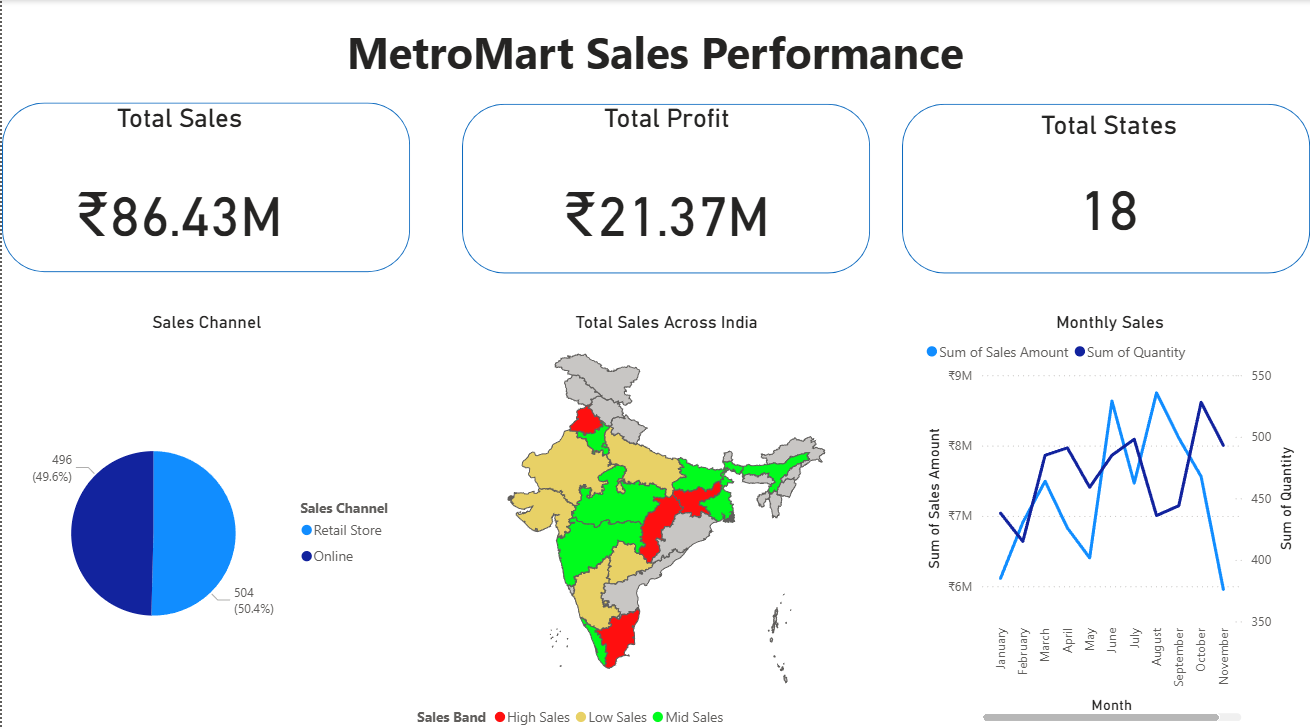

The dashboard page shown, as its layout file describes it:
{"tool":"powerbi","page":{"name":"Page 1","canvas":[1280,720],"ordinal":0},"visuals":[{"type":"shapeMap","title":"Total Sales Across India","fields":{"Value":["Sum(Sheet1.Sales Amount)"],"Category":["StateSalesSummary.State"],"Series":["StateSalesSummary.Sales Band"]},"box":[400.7,304.6,498.1,415.8],"z":0},{"type":"textbox","box":[330.7,16.5,617.5,67.2],"z":1},{"type":"card","title":"Total Sales","fields":{"Values":["Sum(Sheet1.Sales Amount)"]},"box":[0,101.3,347.2,178.4],"z":2},{"type":"pieChart","title":"Sales Channel","fields":{"Category":["Sheet1.Sales Channel"],"Y":["CountNonNull(Sheet1.Sales Channel)"]},"box":[0,304.6,400.7,415.8],"z":3},{"type":"lineChart","title":"Monthly Sales","fields":{"Category":["Sheet1.Order Date.Variation.Date Hierarchy.Month","Sheet1.Order Date.Variation.Date Hierarchy.Day"],"Y":["Sum(Sheet1.Sales Amount)"],"Y2":["Sum(Sheet1.Quantity)"]},"box":[898.8,304.6,370.5,406.2],"z":4},{"type":"card","title":"Total Profit","fields":{"Values":["Sum(Sheet1.Profit)"]},"box":[483,101.3,334.8,178.4],"z":5},{"type":"card","title":"Total States","fields":{"Values":["CountNonNull(StateSalesSummary.State)"]},"box":[926.2,107,314.2,155.1],"z":6},{"type":"shape","box":[0,100.2,399.3,166],"z":7},{"type":"shape","box":[450.1,101.5,399.3,166],"z":8},{"type":"shape","box":[881,101.5,399.3,166],"z":9}]}

Visuals, with their boxes in screenshot pixels (x1, y1, x2, y2), scaled from the page's 1280x720 canvas onto the 1310x728 screenshot:
"Total Sales Across India" shapeMap: (410,308,920,727)
textbox: (338,17,970,85)
"Total Sales" card: (0,102,355,283)
"Sales Channel" pieChart: (0,308,410,727)
"Monthly Sales" lineChart: (920,308,1299,719)
"Total Profit" card: (494,102,837,283)
"Total States" card: (948,108,1269,265)
shape: (0,101,409,269)
shape: (461,103,869,270)
shape: (902,103,1309,270)
